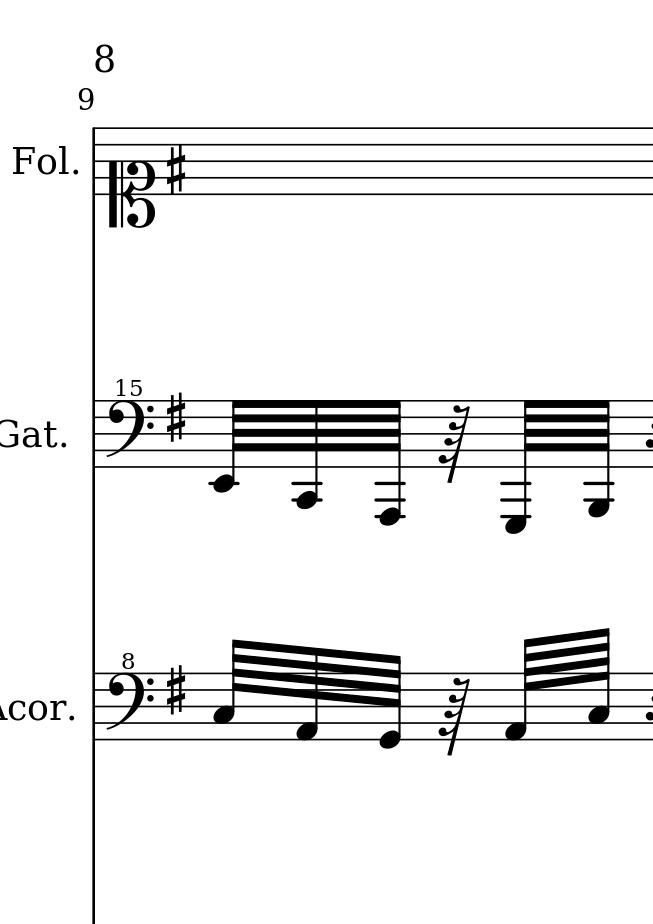64_-2: (209, 398, 246, 494)
64_-4: (291, 396, 322, 510)
64_-5: (585, 398, 613, 518)
64_-7: (500, 400, 538, 537)
64_0: (377, 654, 403, 748)
64_1: (503, 636, 539, 745), (294, 645, 321, 743)
64_3: (212, 638, 242, 743), (587, 626, 611, 744)
8: (93, 41, 115, 73)
9: (78, 85, 94, 112)
DHigh_Fclef: (103, 377, 155, 469)
High_Fclef: (102, 650, 154, 742)
Rests64: (437, 676, 472, 757), (438, 404, 471, 486)
Sharp: (161, 390, 189, 448), (164, 663, 188, 718), (164, 143, 188, 196)
Single_barline: (87, 674, 102, 740), (88, 401, 102, 468), (88, 128, 102, 194)
Soprano_Cclef: (106, 125, 156, 230)
